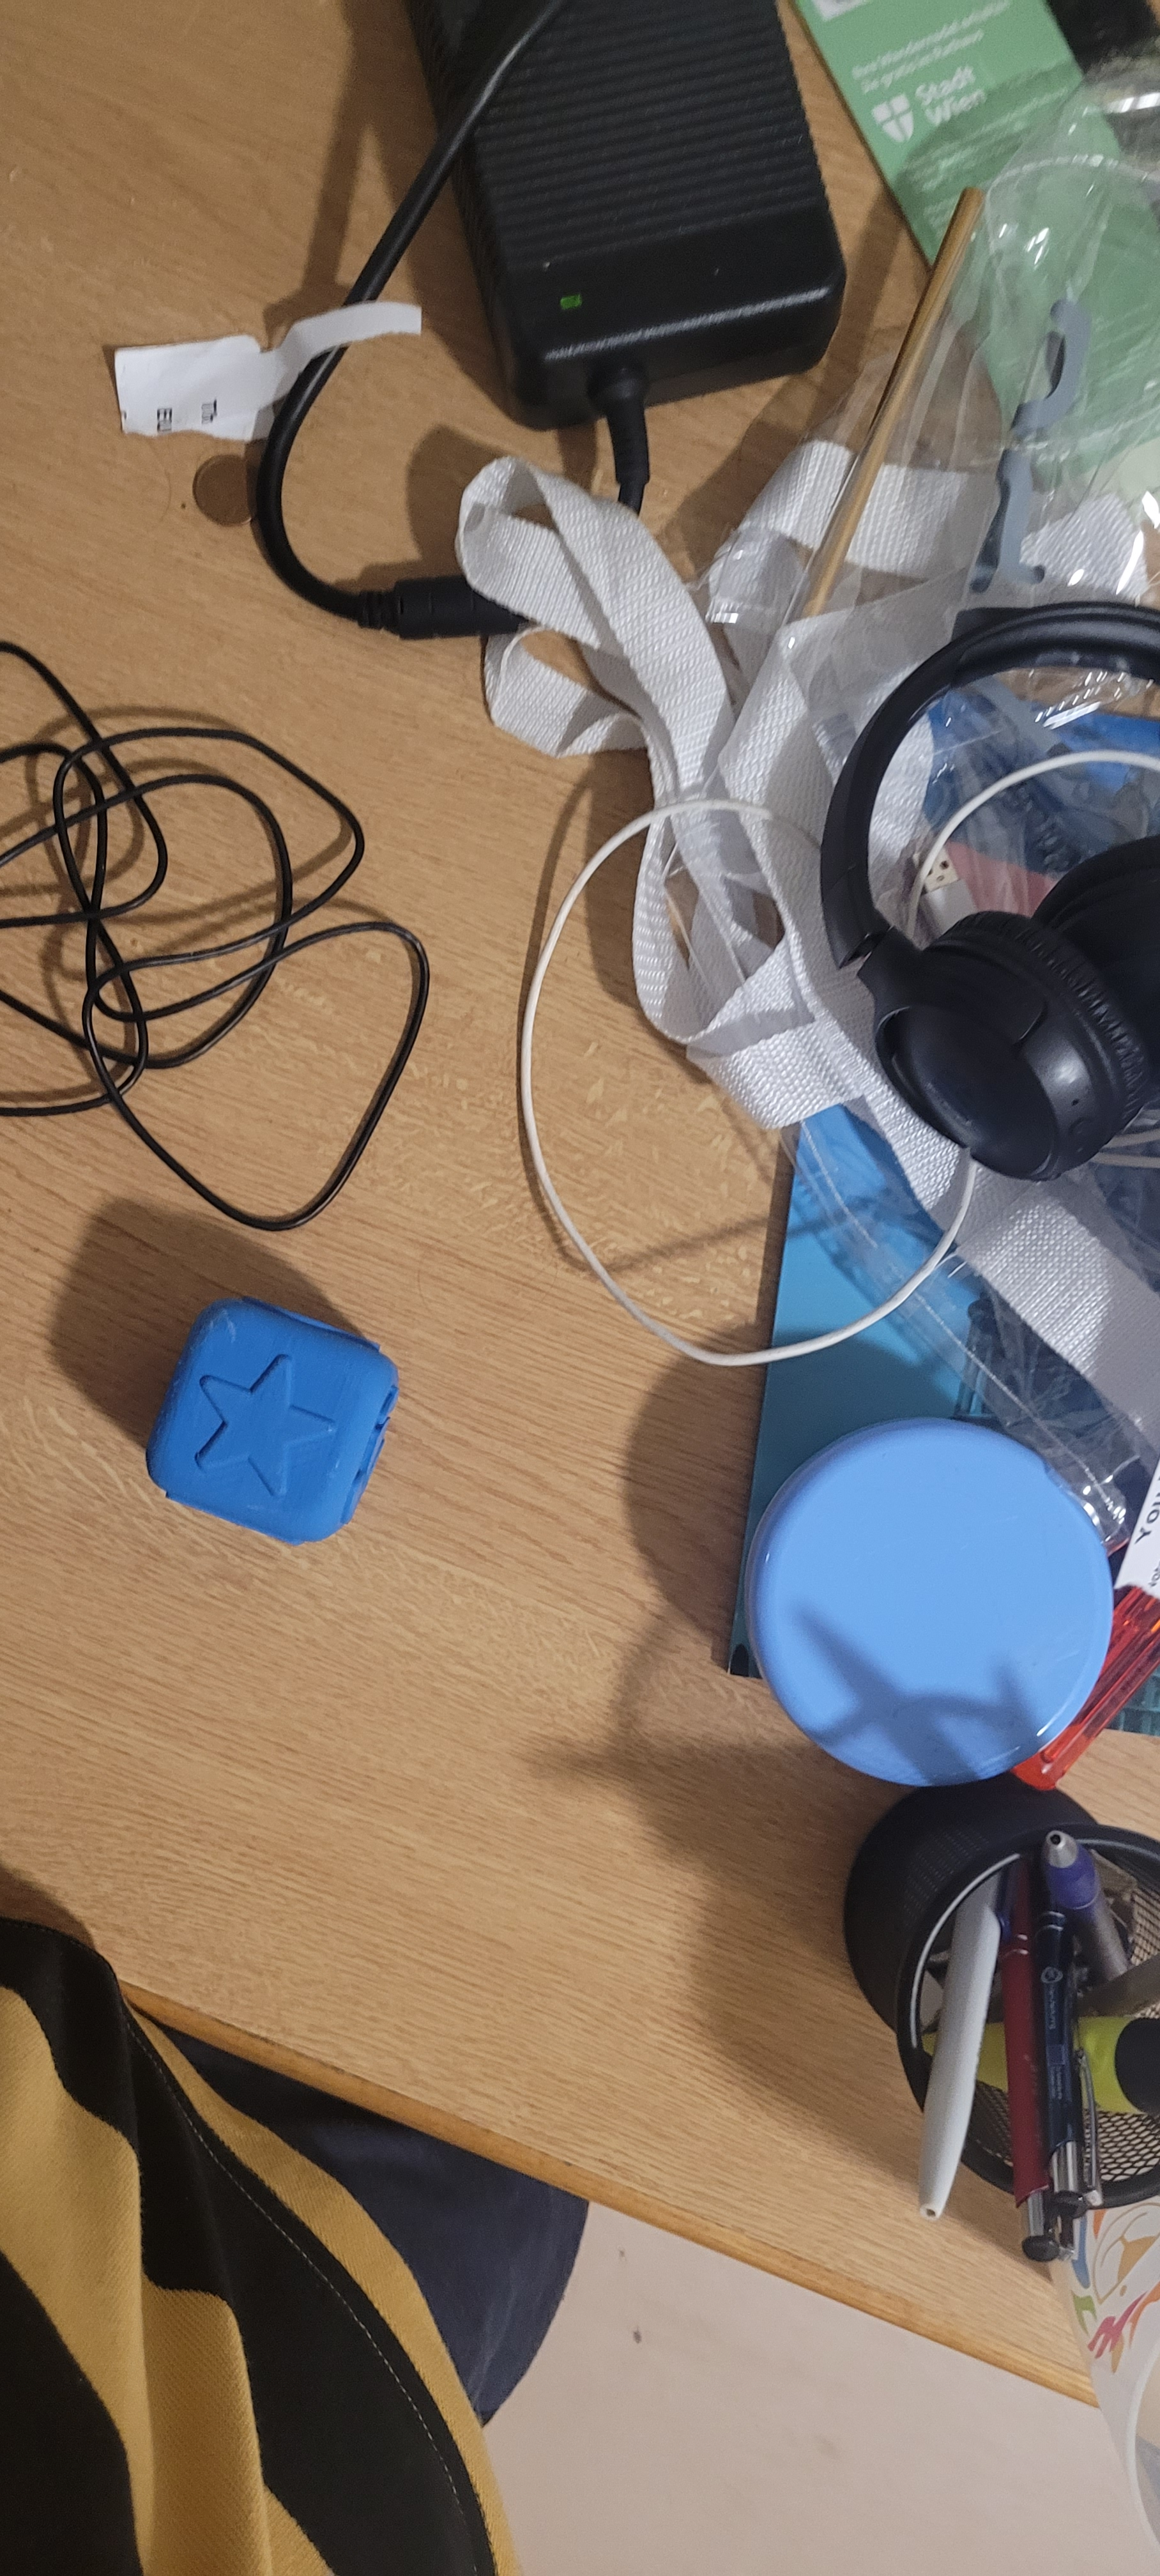Star: (125, 1268, 403, 1533)
